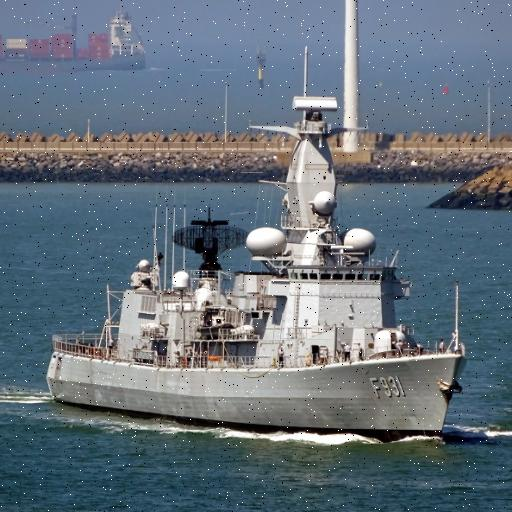Fragata: (41, 92, 476, 449)
